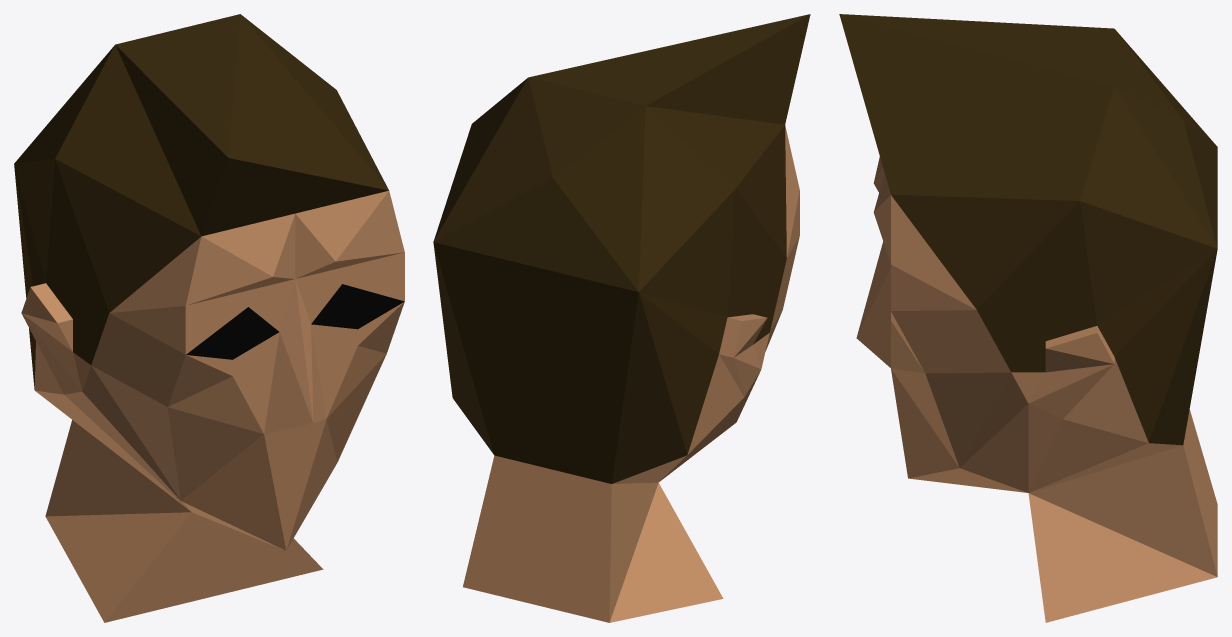
Rendered from model_408_idk.obj.
3 views of the same model, side by side, from view 1: azimuth 30°, elevation 25°; view 2: azimuth 150°, elevation 25°; view 3: azimuth 270°, elevation 25° (orthographic). The views are drawn at different scales.
Parts seen in each view (by area): view 1: 408; view 2: 408; view 3: 408.
Part boxes in pixels (x1,y1,x2,y2): 408: [14, 14, 404, 622]; 408: [433, 14, 810, 622]; 408: [839, 14, 1217, 622].
Size of the model in its own units: 20 by 33 by 22.
